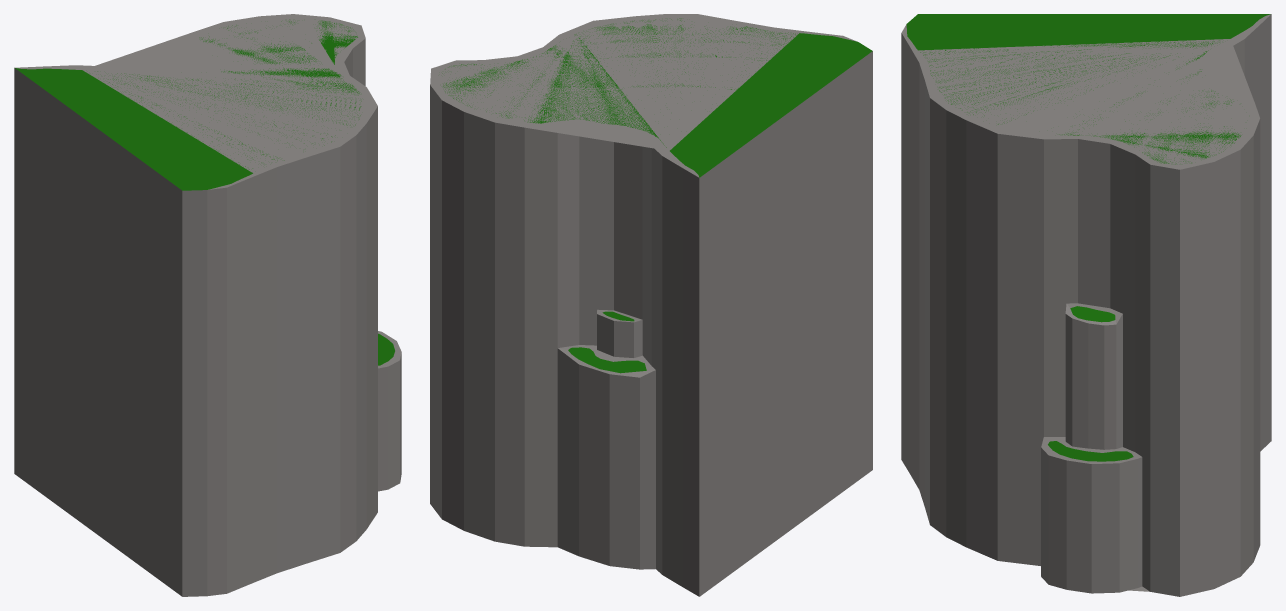
File: MountainEnd.fbx
3 renders of one model, left to right at view 1: azimuth 30°, elevation 25°; view 2: azimuth 150°, elevation 25°; view 3: azimuth 270°, elevation 25°, orthographic. The views are drawn at different scales.
Visible parts, largest first — view 1: Plane.009; view 2: Plane.009; view 3: Plane.009.
Boxes of the visible parts, x1,y1,x2,y2 form: Plane.009: (14, 14, 401, 596); Plane.009: (430, 14, 872, 596); Plane.009: (901, 14, 1271, 596).
Size of the model in its own units: 78.23 by 100 by 78.51.
